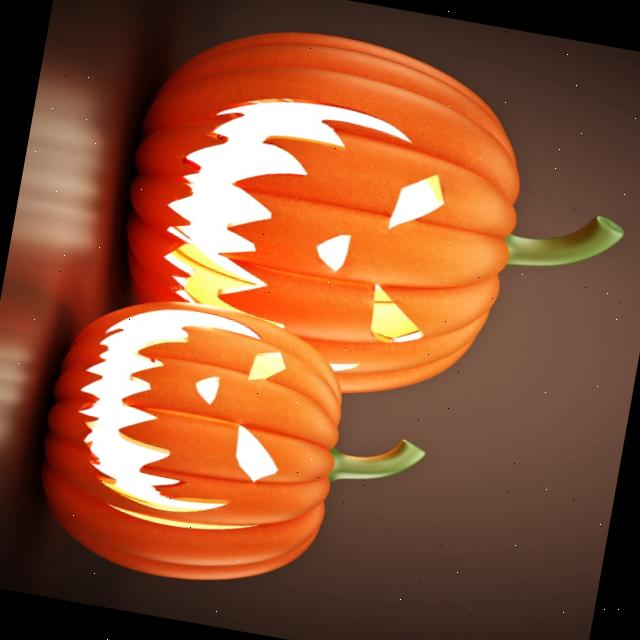pumpkin: (126, 31, 620, 392), (41, 301, 422, 578)
